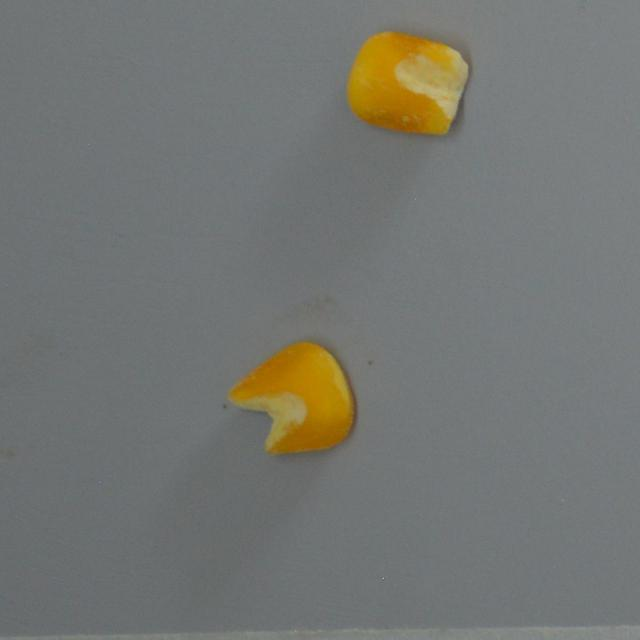no_canjicado: (226, 340, 357, 454)
pelicula: (344, 29, 470, 135)
